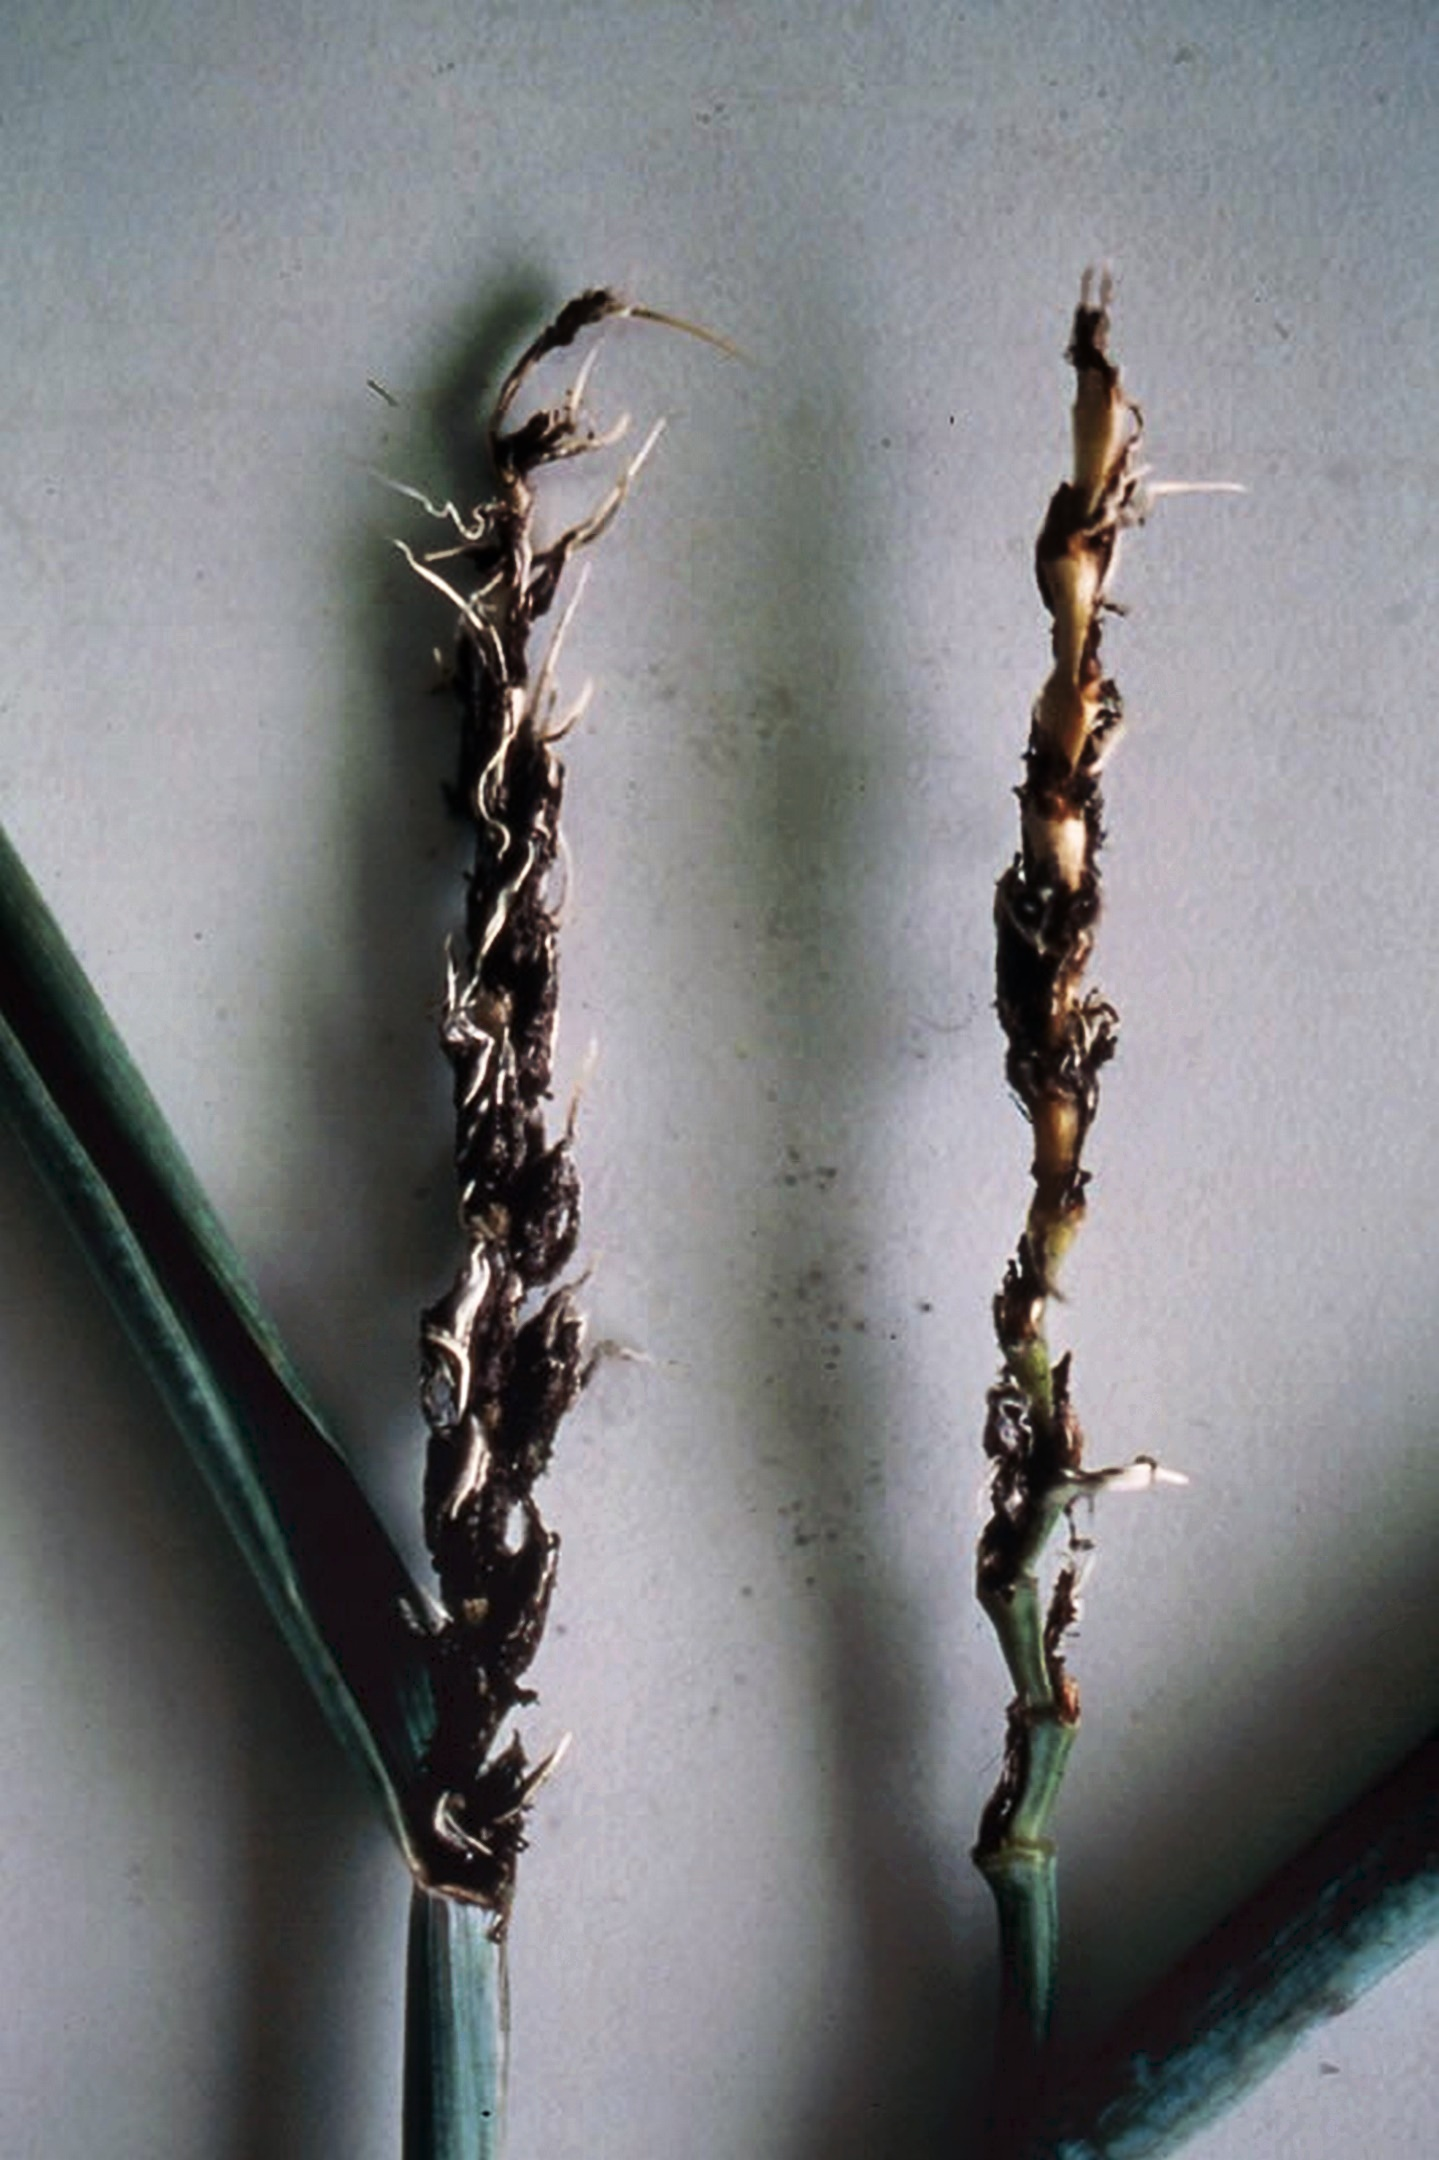Wheat Loose Smut: (281, 348, 639, 1808)
